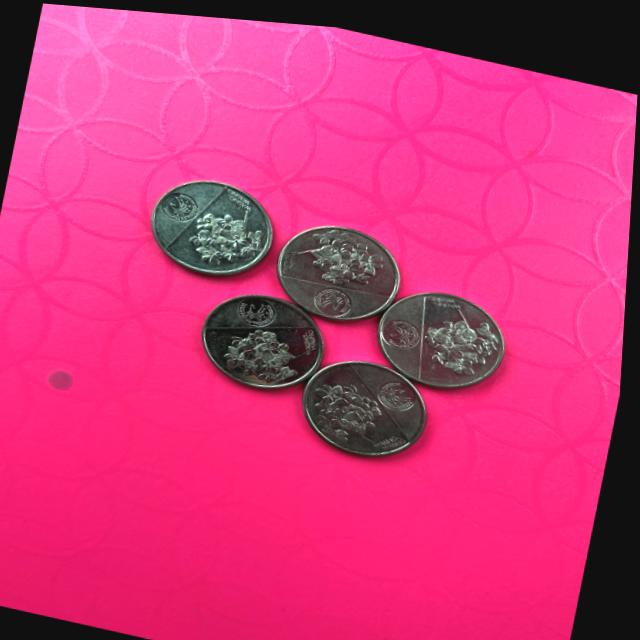1_New_Back: (186, 190, 275, 271), (313, 369, 401, 447), (423, 297, 509, 372), (301, 223, 393, 287), (223, 324, 314, 388)
